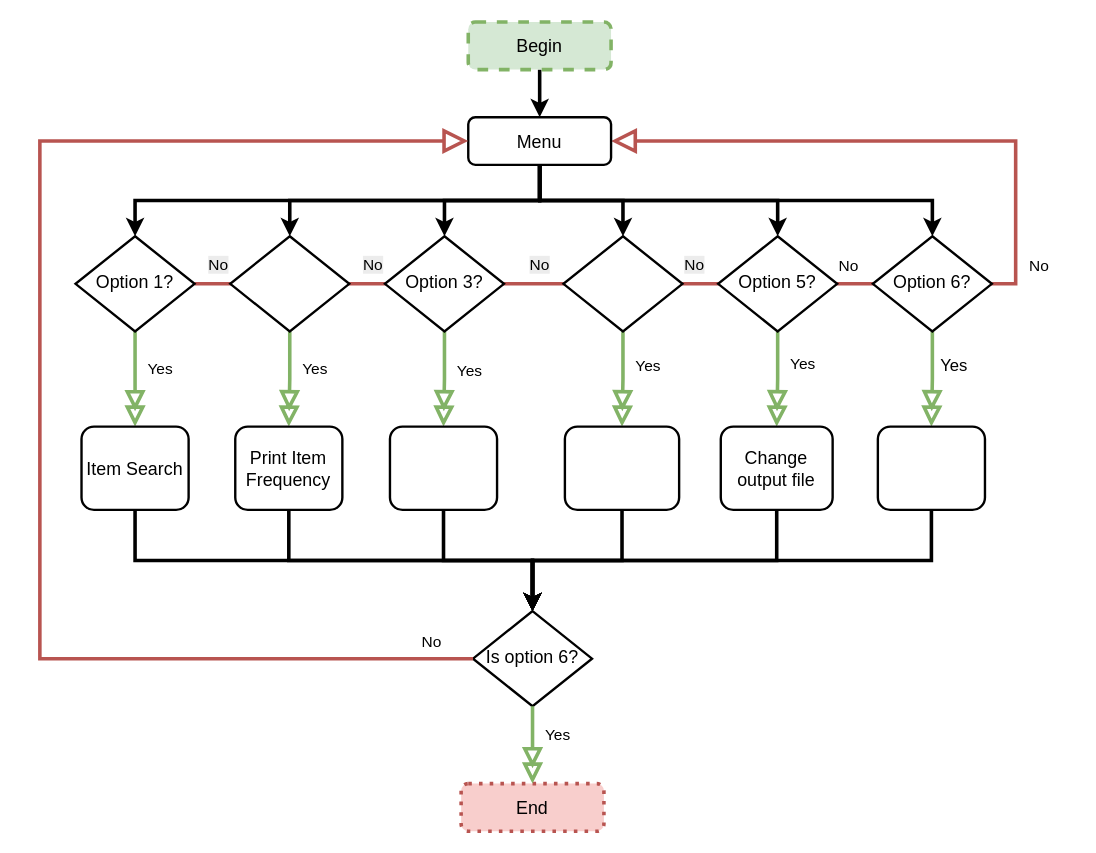
Some shapes in this 1096 by 853 pixel diagram are drawn without their labels. Here are the shapes that lost their labels. From the top down, the box of each, then its label:
(228, 234, 350, 332): Option 2?
(562, 234, 683, 332): Option 4?
(388, 425, 498, 511): Print Item Frequency w/ histogram
(563, 425, 680, 511): Change input file
(876, 425, 986, 511): Exit
